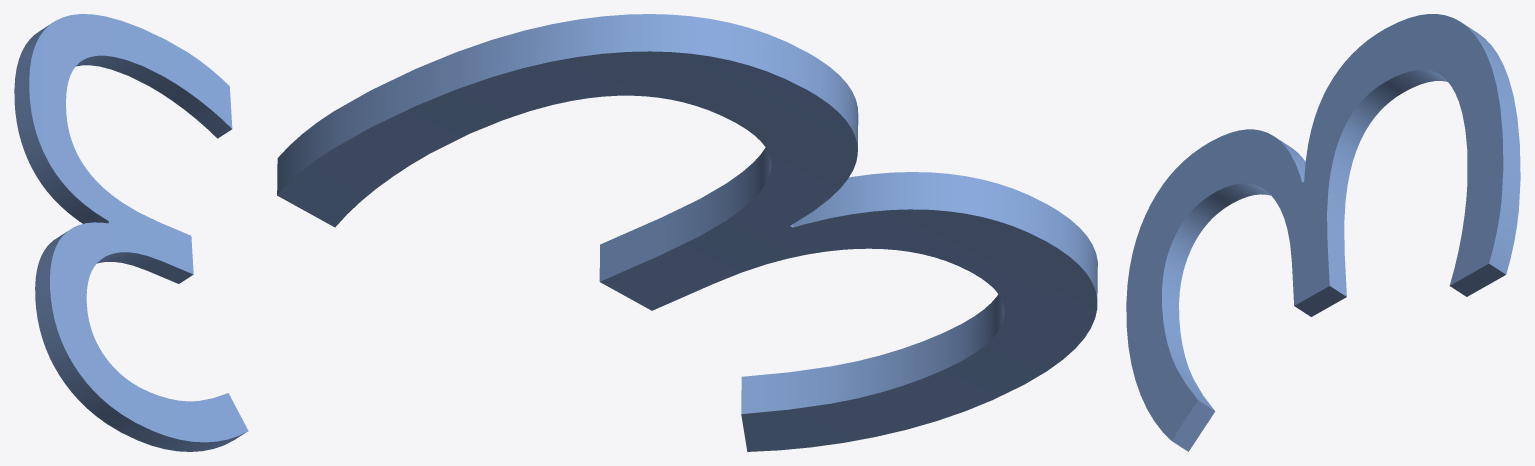
File: New_Number_3.gltf
3 views of the same model, side by side, from view 1: azimuth 30°, elevation 25°; view 2: azimuth 150°, elevation 25°; view 3: azimuth 270°, elevation 25° (orthographic). The views are drawn at different scales.
Parts seen in each view (by area): view 1: Part 210; view 2: Part 210; view 3: Part 210.
Part boxes in pixels (x1=…): Part 210: x1=14, y1=14, x2=248, y2=451; Part 210: x1=277, y1=14, x2=1097, y2=451; Part 210: x1=1126, y1=14, x2=1520, y2=451.
Bounding box in the file's own units: 0.00411 × 0.00428 × 0.00388.
